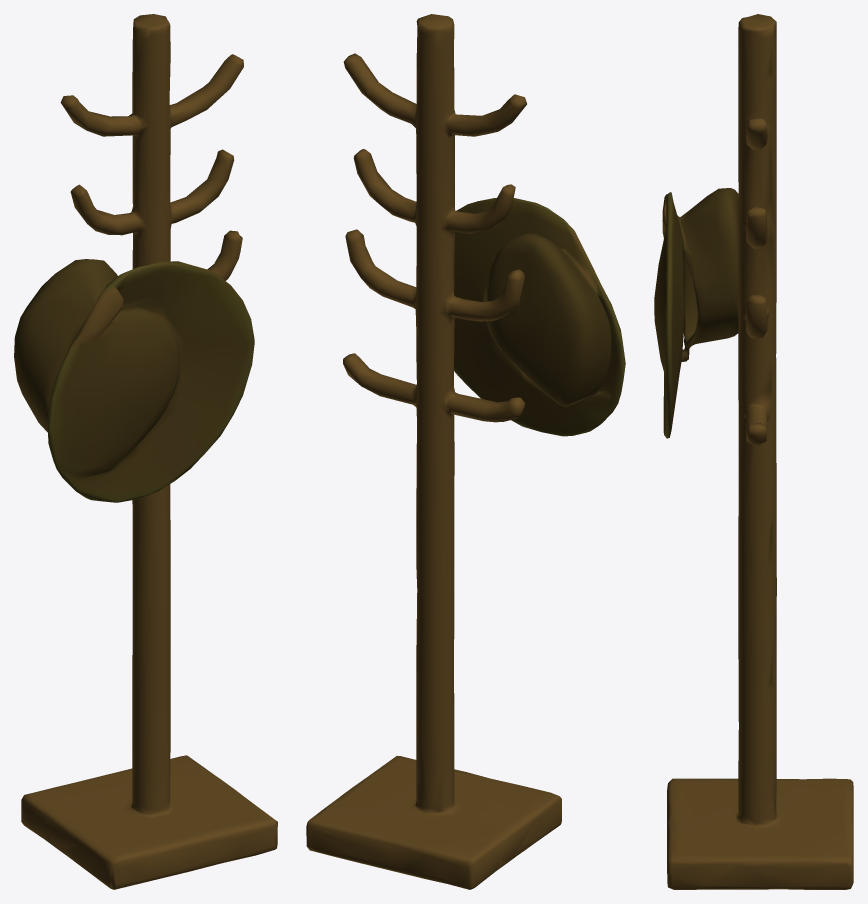
The model's file is gen3d-coat-rack-lod0.glb.
3 renders of one model, left to right at view 1: azimuth 30°, elevation 25°; view 2: azimuth 150°, elevation 25°; view 3: azimuth 270°, elevation 25°, orthographic.
Parts seen in each view (by area): view 1: part_0; view 2: part_0; view 3: part_0.
Part boxes in pixels (x1,y1,x2,y2): part_0: [14, 14, 277, 889]; part_0: [306, 14, 625, 889]; part_0: [654, 14, 853, 889].
Size of the model in its own units: 0.3036 by 1 by 0.2179.
